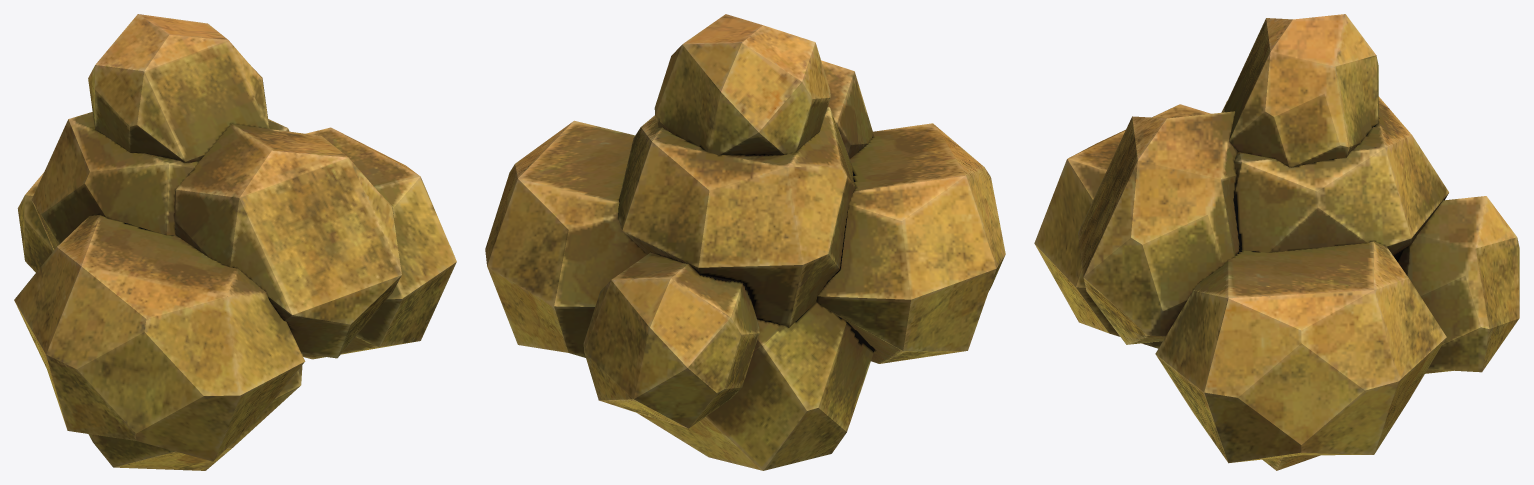
File: GoldOre.glb
The picture shows the model from 3 angles, left to right: view 1: azimuth 30°, elevation 25°; view 2: azimuth 150°, elevation 25°; view 3: azimuth 270°, elevation 25°; orthographic projection.
Visible parts, largest first — view 1: GoldOre; view 2: GoldOre; view 3: GoldOre.
Boxes of the visible parts, x1=… form: GoldOre: x1=14, y1=14, x2=456, y2=470; GoldOre: x1=485, y1=14, x2=1005, y2=470; GoldOre: x1=1034, y1=14, x2=1519, y2=470.
Size of the model in its own units: 0.344 by 0.3354 by 0.3347.
1 material, 1 textured.
